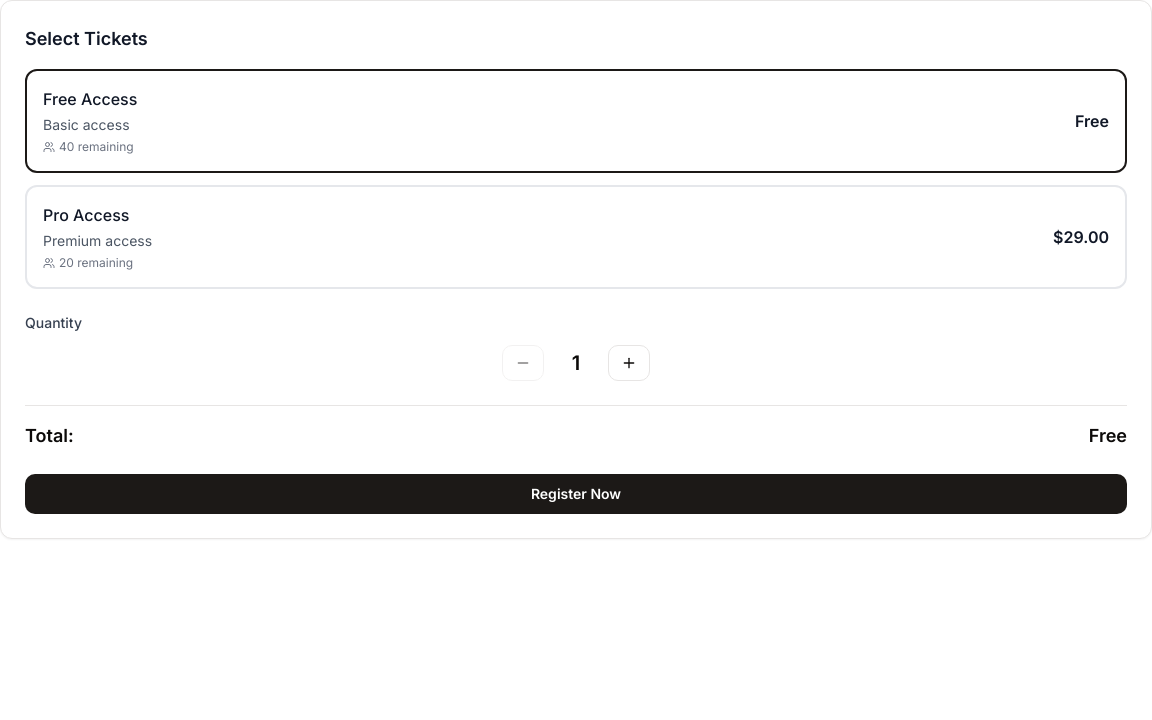
TicketWidget Component › allows quantity selection
Expected: the text with test id "text-quantity" reads "1", top-left (572, 351), bottom-right (580, 375)
What coordinates should you click on to do the following:
click the button with test id "button-increase-quantity"
I would click on:
 (629, 363)
Its box is top-left (608, 345), bottom-right (650, 381).
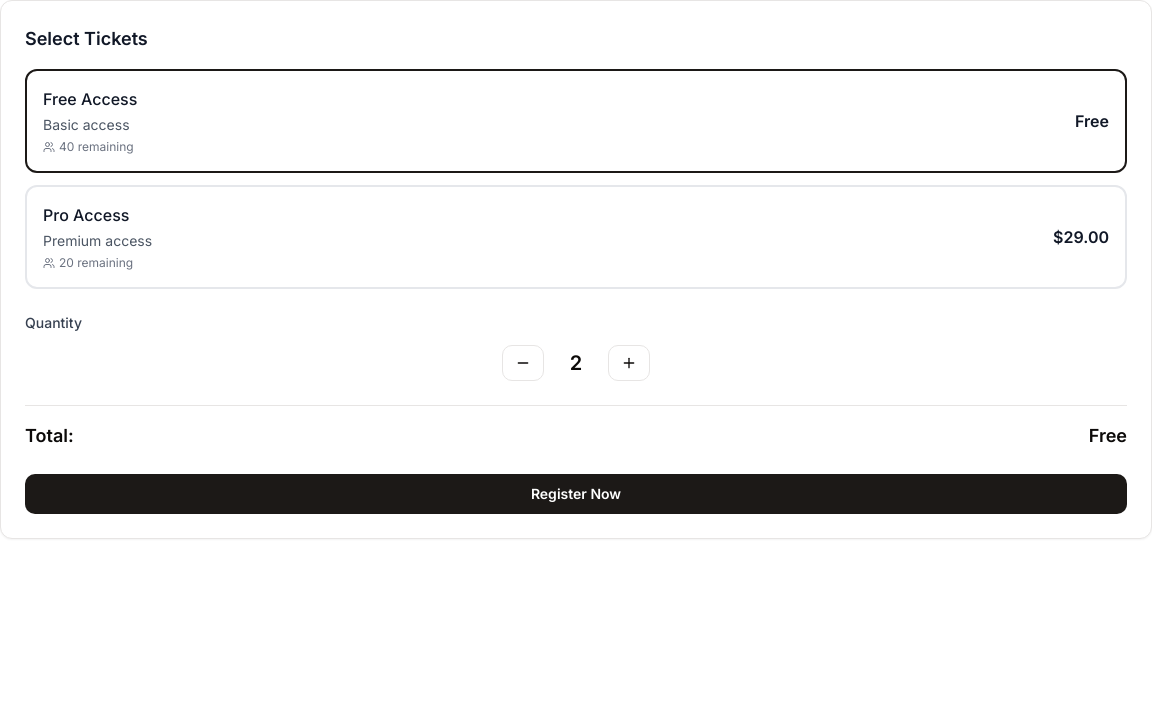
Result: the text with test id "text-quantity" reads "2" at top-left (570, 351), bottom-right (582, 375)
What coordinates should you click on to do the following:
click the button with test id "button-decrease-quantity"
I would click on:
 (523, 363)
Its box is top-left (502, 345), bottom-right (544, 381).
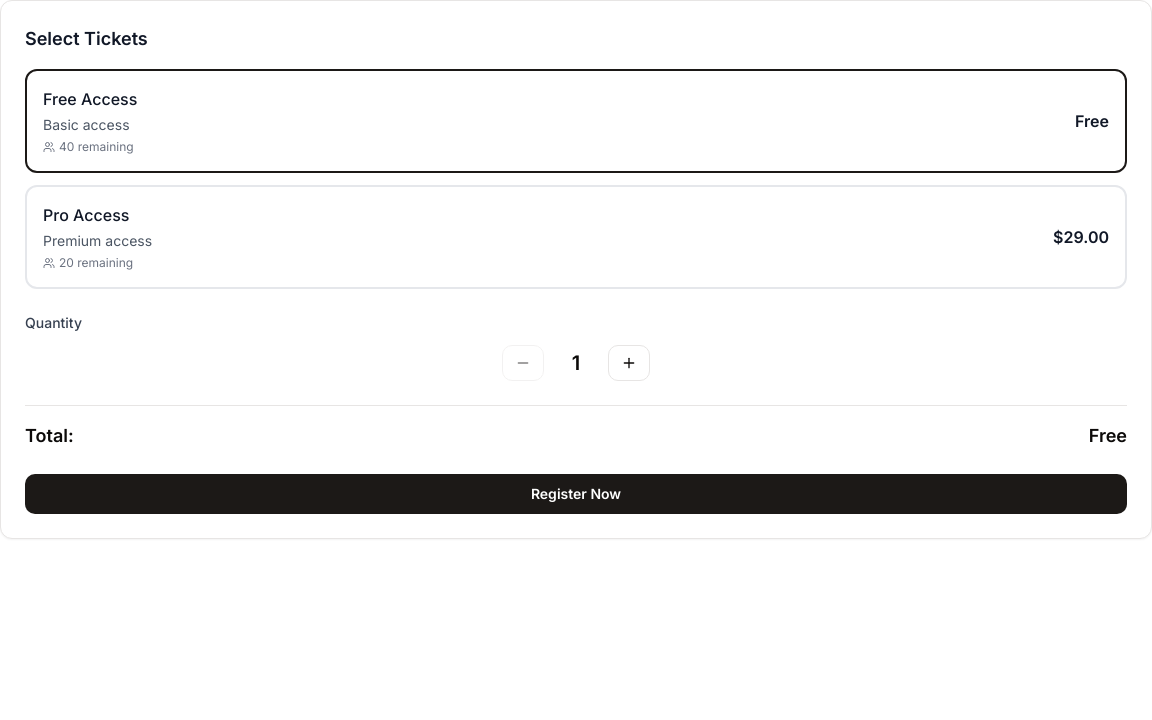
Result: the text with test id "text-quantity" reads "1" at top-left (572, 351), bottom-right (580, 375)
